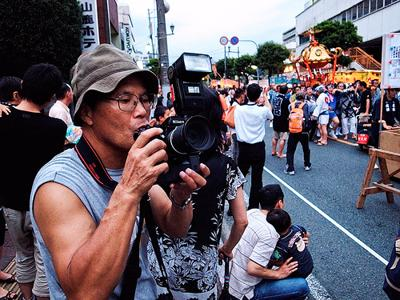person: (30, 46, 212, 300)
